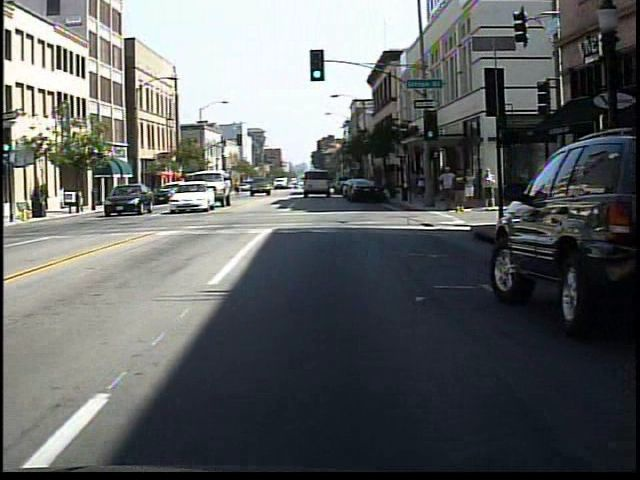person: (438, 164, 457, 213), (479, 166, 497, 215), (452, 168, 469, 213), (413, 165, 430, 206), (463, 168, 478, 211), (229, 174, 246, 202)
